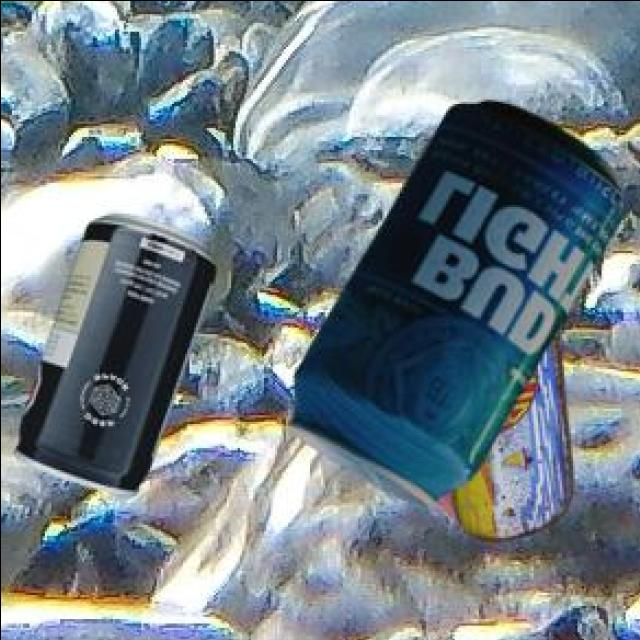logam: (290, 98, 628, 505), (19, 209, 218, 492), (439, 330, 575, 538)
